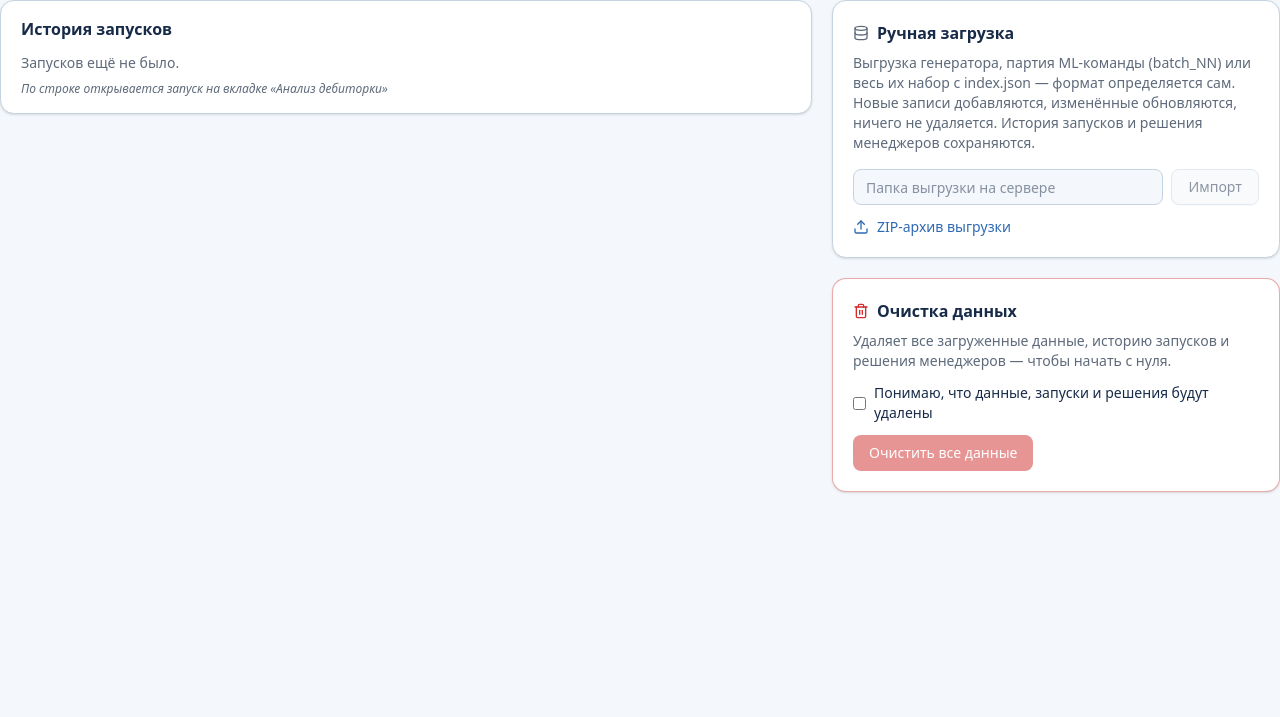
Test: HistoryPage › импорт без подтверждения и с отчётом: новые, изменённые, пропущенные строки и замечания
In the field labelled "Папка выгрузки на сервере": [1008, 187] box [853, 169, 1164, 205], type "delta-1"
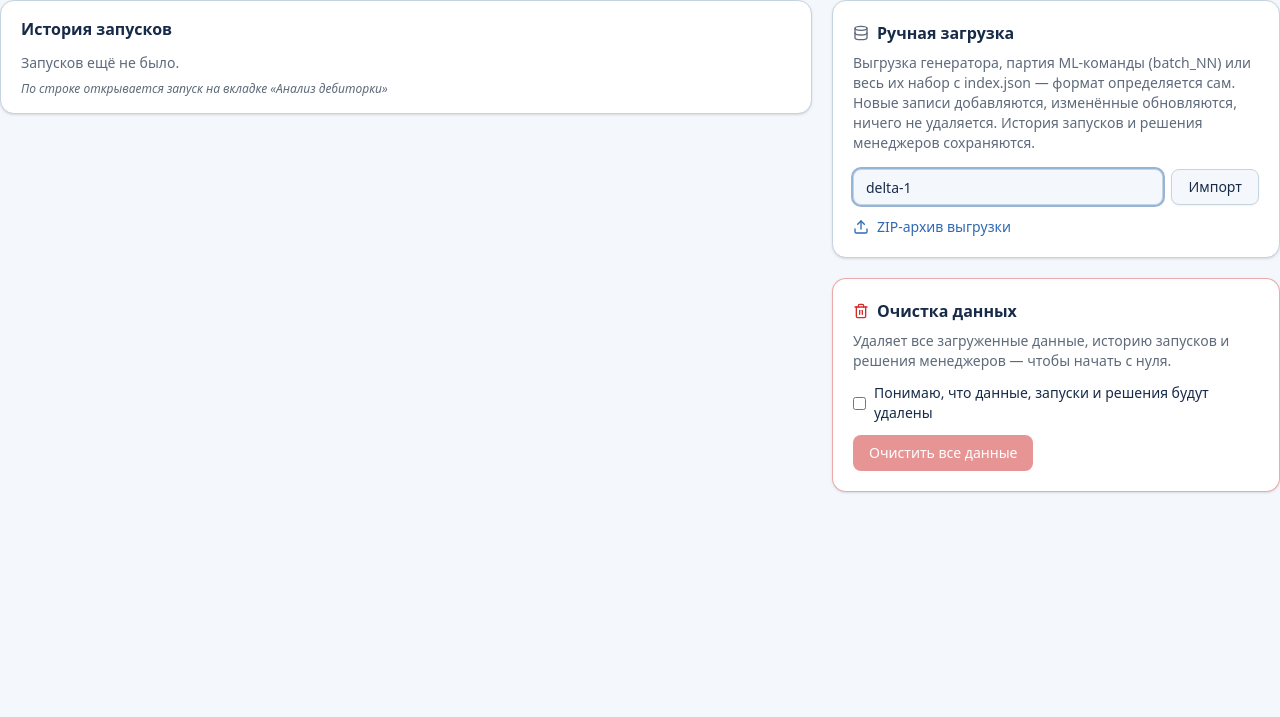
Click the button "Импорт": [1215, 187] box [1172, 169, 1259, 205]
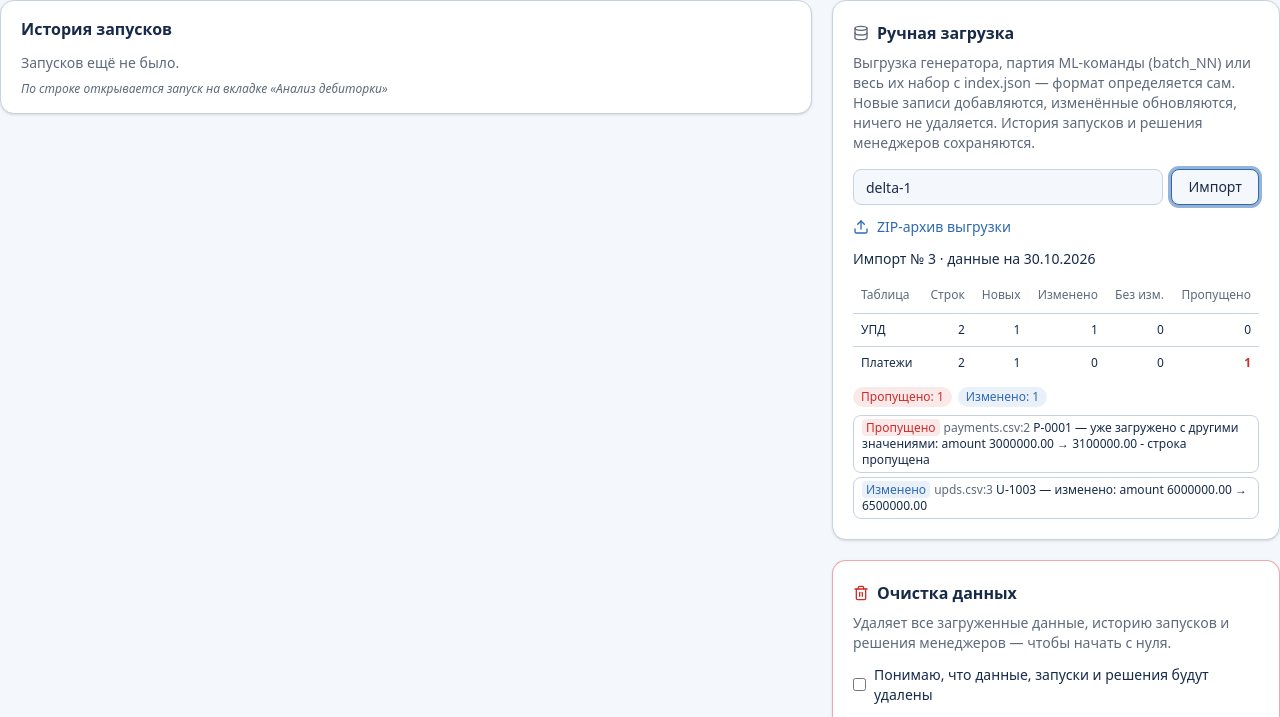
Result: the text "Импорт № 3 · данные на 30.10.2026" is shown at [853, 249, 1095, 268]
Result: the text "Пропущено: 1" is shown at [853, 386, 952, 406]
Result: the list item "amount 3000000.00 → 3100000.00" is shown at [862, 418, 1238, 468]
